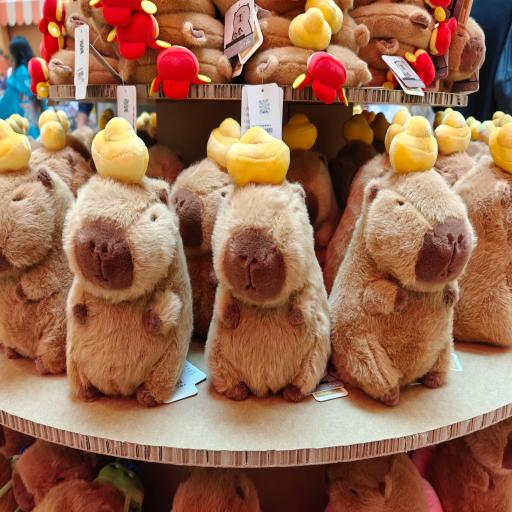capibara: (338, 140, 484, 385), (84, 125, 188, 405), (219, 139, 327, 389)
